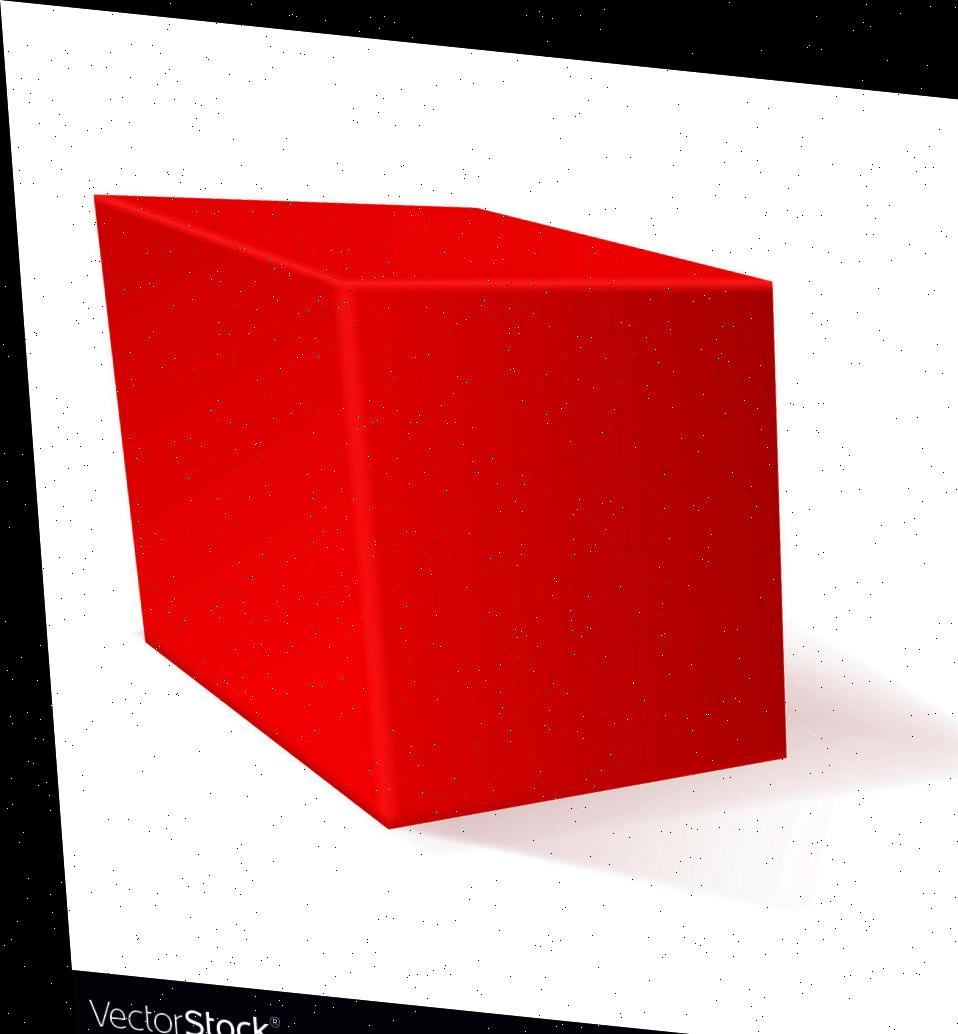cube: (50, 149, 821, 857)
